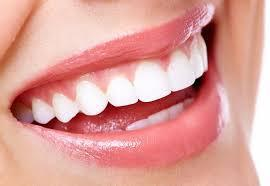normal: (134, 60, 172, 103), (75, 75, 110, 118), (165, 48, 196, 94), (103, 71, 138, 108), (52, 87, 80, 126), (29, 89, 56, 126), (189, 36, 204, 75), (147, 108, 171, 128), (197, 33, 209, 72), (121, 116, 151, 131), (16, 103, 36, 124), (165, 100, 187, 118)
